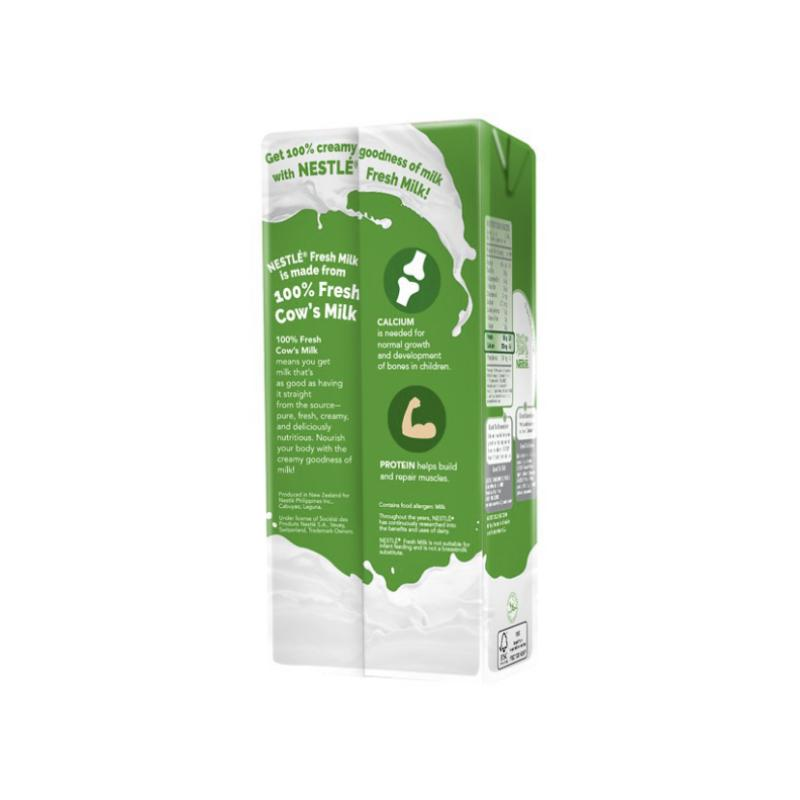uht carton: (261, 119, 539, 681)
